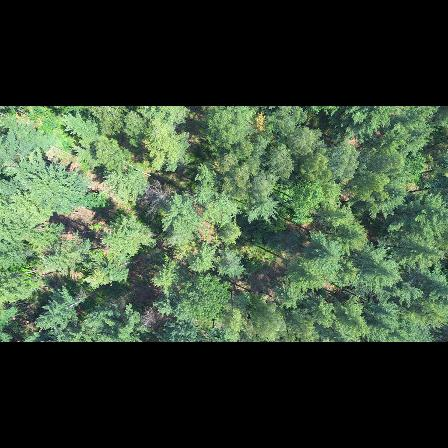Dead: (133, 178, 175, 221)
